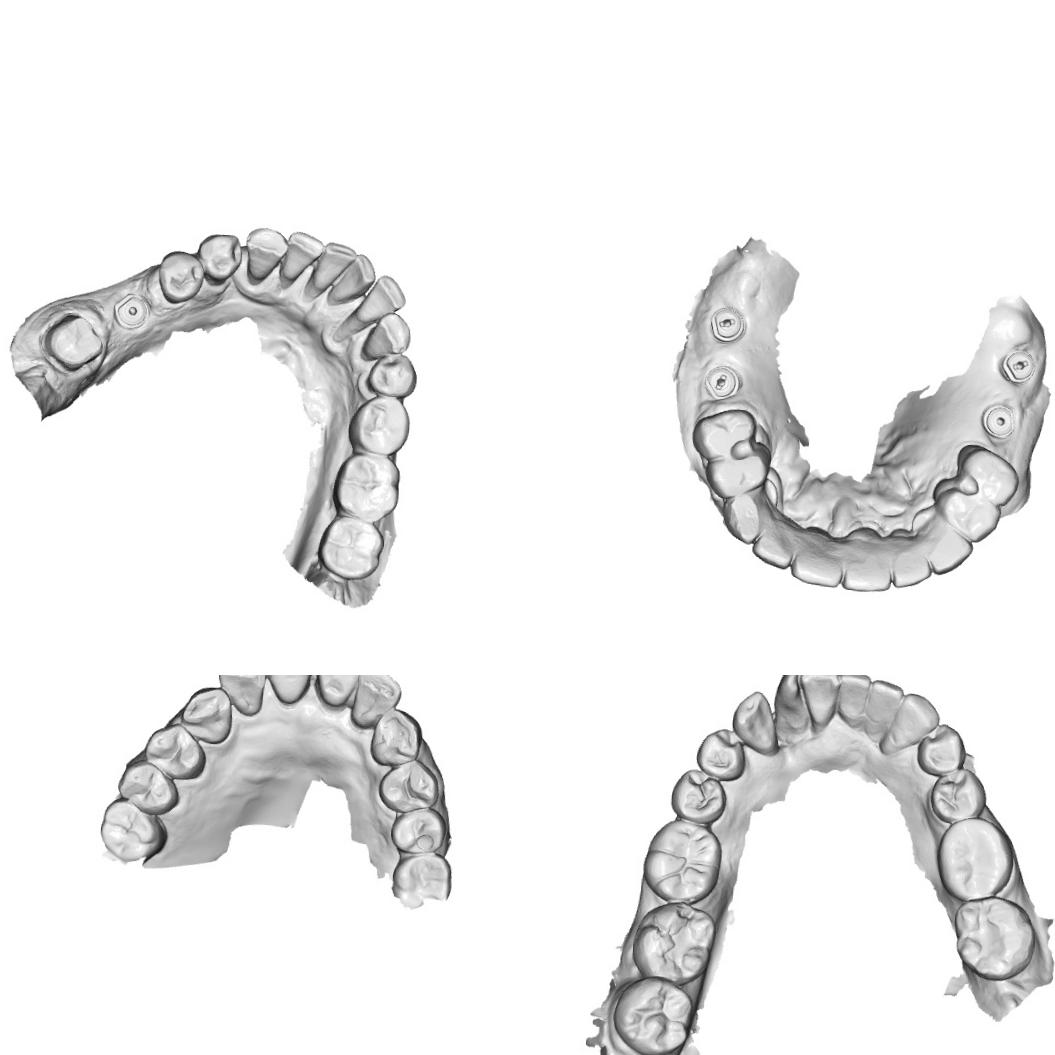canine: (719, 482, 776, 546), (730, 688, 782, 756), (368, 706, 424, 768), (884, 691, 940, 751), (178, 684, 233, 745), (918, 518, 974, 576), (358, 311, 416, 364), (242, 225, 290, 285)
crown: (39, 310, 104, 374)
implant: (111, 290, 151, 330), (979, 402, 1016, 441)
implant_minus: (998, 346, 1038, 386), (701, 362, 742, 401), (707, 305, 746, 344)
incisor: (839, 532, 893, 594), (788, 534, 845, 589), (349, 675, 403, 730), (770, 675, 813, 737), (886, 537, 934, 590), (748, 520, 798, 570), (280, 228, 324, 284), (796, 675, 840, 731), (361, 273, 407, 324), (214, 675, 266, 717), (312, 675, 374, 708), (317, 239, 358, 285), (835, 675, 871, 727), (254, 675, 316, 705), (866, 678, 905, 722), (344, 250, 376, 303)
molar: (628, 898, 718, 988), (949, 893, 1038, 982), (639, 816, 724, 906), (933, 813, 1016, 904), (609, 972, 695, 1055), (330, 452, 402, 522), (98, 794, 170, 863), (315, 514, 386, 582), (389, 851, 453, 911)
premolar: (345, 392, 411, 457), (701, 441, 773, 500), (689, 404, 758, 464), (956, 446, 1022, 508), (116, 757, 182, 817), (142, 720, 207, 780), (927, 764, 988, 827), (376, 756, 440, 814), (668, 766, 728, 825), (939, 490, 1002, 546), (914, 720, 969, 778), (694, 725, 747, 782), (389, 804, 447, 855), (194, 230, 244, 286), (156, 248, 205, 305), (365, 350, 418, 400)
